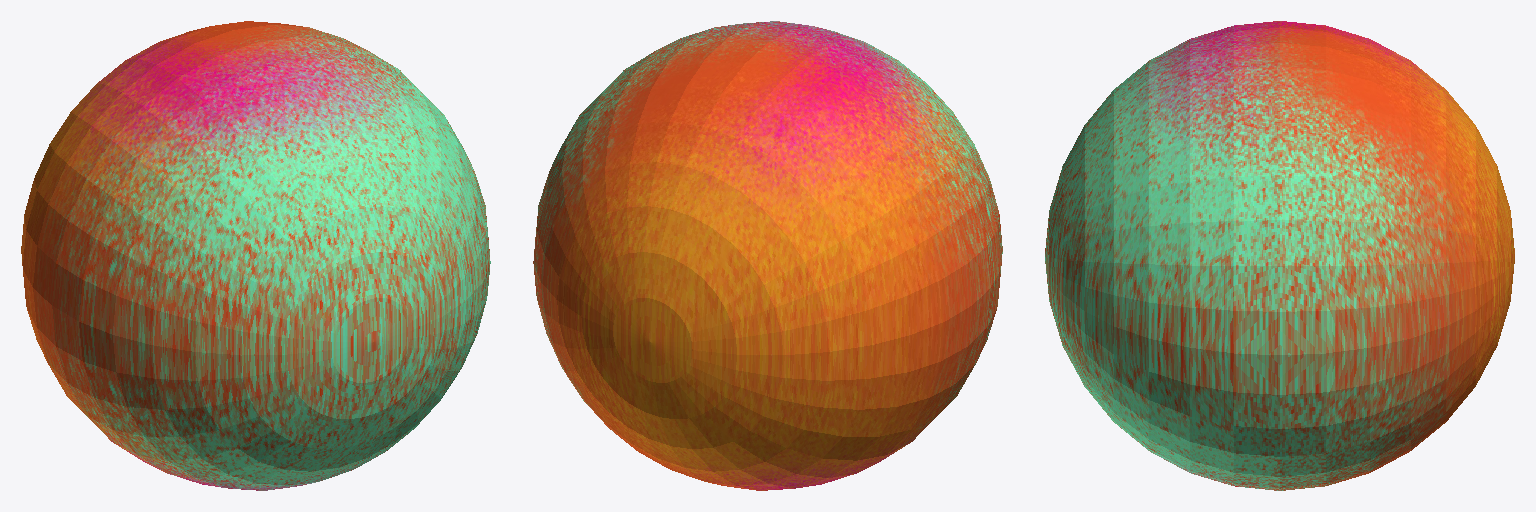
The picture shows the model from 3 angles: view 1: azimuth 30°, elevation 25°; view 2: azimuth 150°, elevation 25°; view 3: azimuth 270°, elevation 25°; orthographic projection.
Visible parts, largest first — view 1: UFO_TOP; view 2: UFO_TOP; view 3: UFO_TOP.
Boxes of the visible parts, box(x1,y1,x2,y2) form: UFO_TOP: box(21, 21, 490, 490); UFO_TOP: box(533, 21, 1002, 490); UFO_TOP: box(1045, 21, 1514, 490).
Size of the model in its own units: 0.1632 by 0.1632 by 0.1632.
Materials: 1 (1 with a texture image).